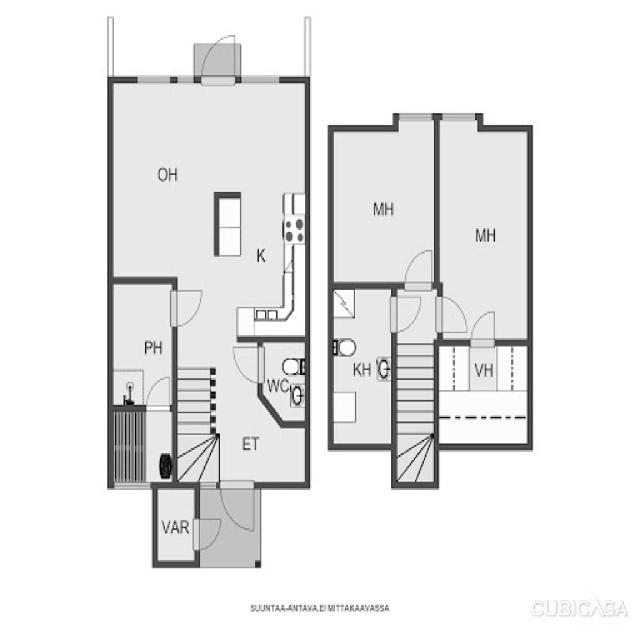door: (156, 492, 208, 564), (198, 32, 239, 91), (218, 480, 258, 534), (231, 339, 268, 389), (167, 283, 205, 331), (402, 245, 436, 290), (435, 293, 469, 338), (468, 306, 500, 350), (390, 293, 422, 334), (144, 373, 174, 411), (192, 516, 222, 553)
window: (126, 71, 197, 89), (236, 71, 283, 89), (438, 108, 482, 126), (394, 108, 435, 126), (111, 480, 153, 492), (174, 71, 196, 89), (199, 479, 219, 494)
zone: (218, 78, 305, 338), (108, 79, 215, 283), (437, 122, 531, 345), (330, 122, 439, 286), (435, 342, 531, 452), (330, 287, 394, 449), (110, 278, 175, 408), (110, 406, 176, 486), (261, 339, 308, 422), (156, 484, 197, 566)
